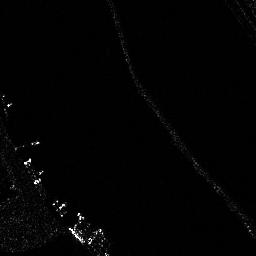ship: (14, 139, 40, 151)
